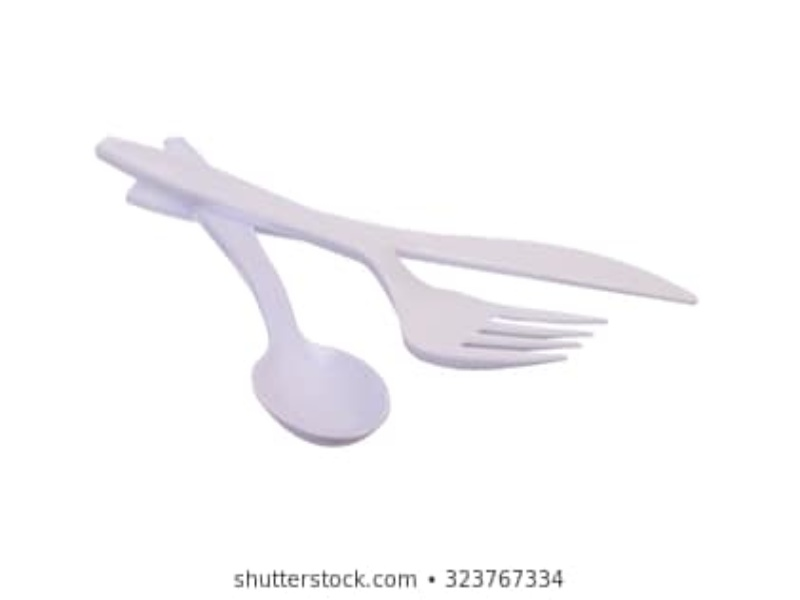plastic-silverware: (94, 139, 611, 377), (90, 133, 714, 306), (156, 128, 400, 448)
